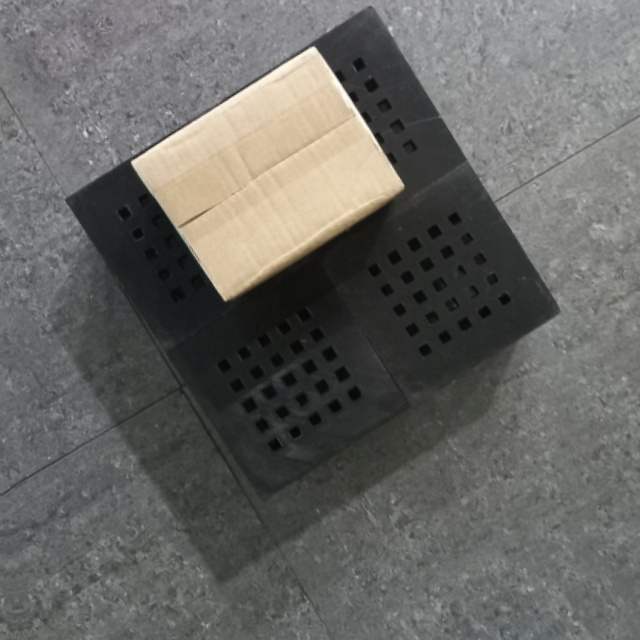box: (125, 42, 408, 312)
pallet: (59, 1, 572, 510)
